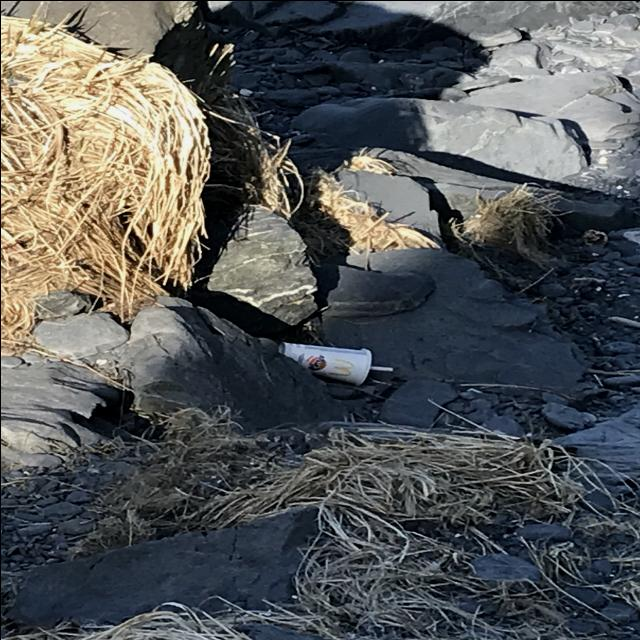Paper cup: (277, 341, 371, 385)
Plastic straw: (368, 365, 392, 370)
